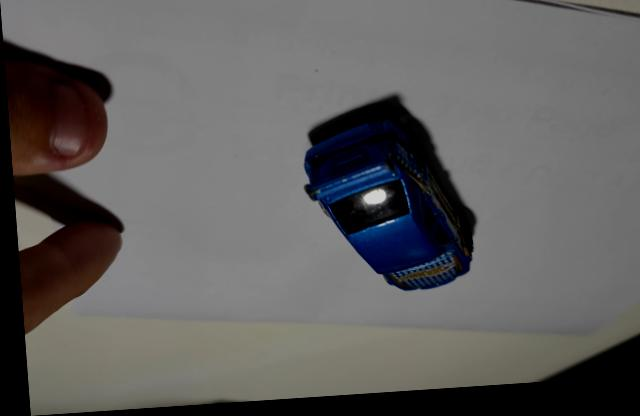04_MERZEDES: (300, 122, 473, 296)
